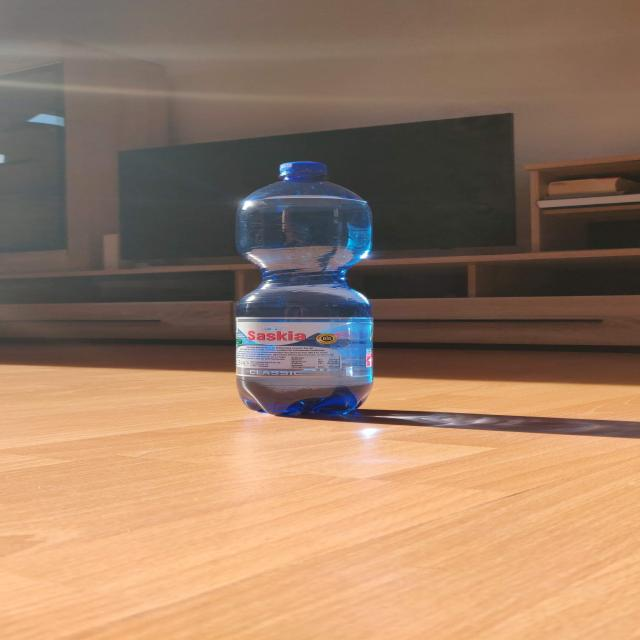bottle-plastic: (232, 158, 380, 416)
